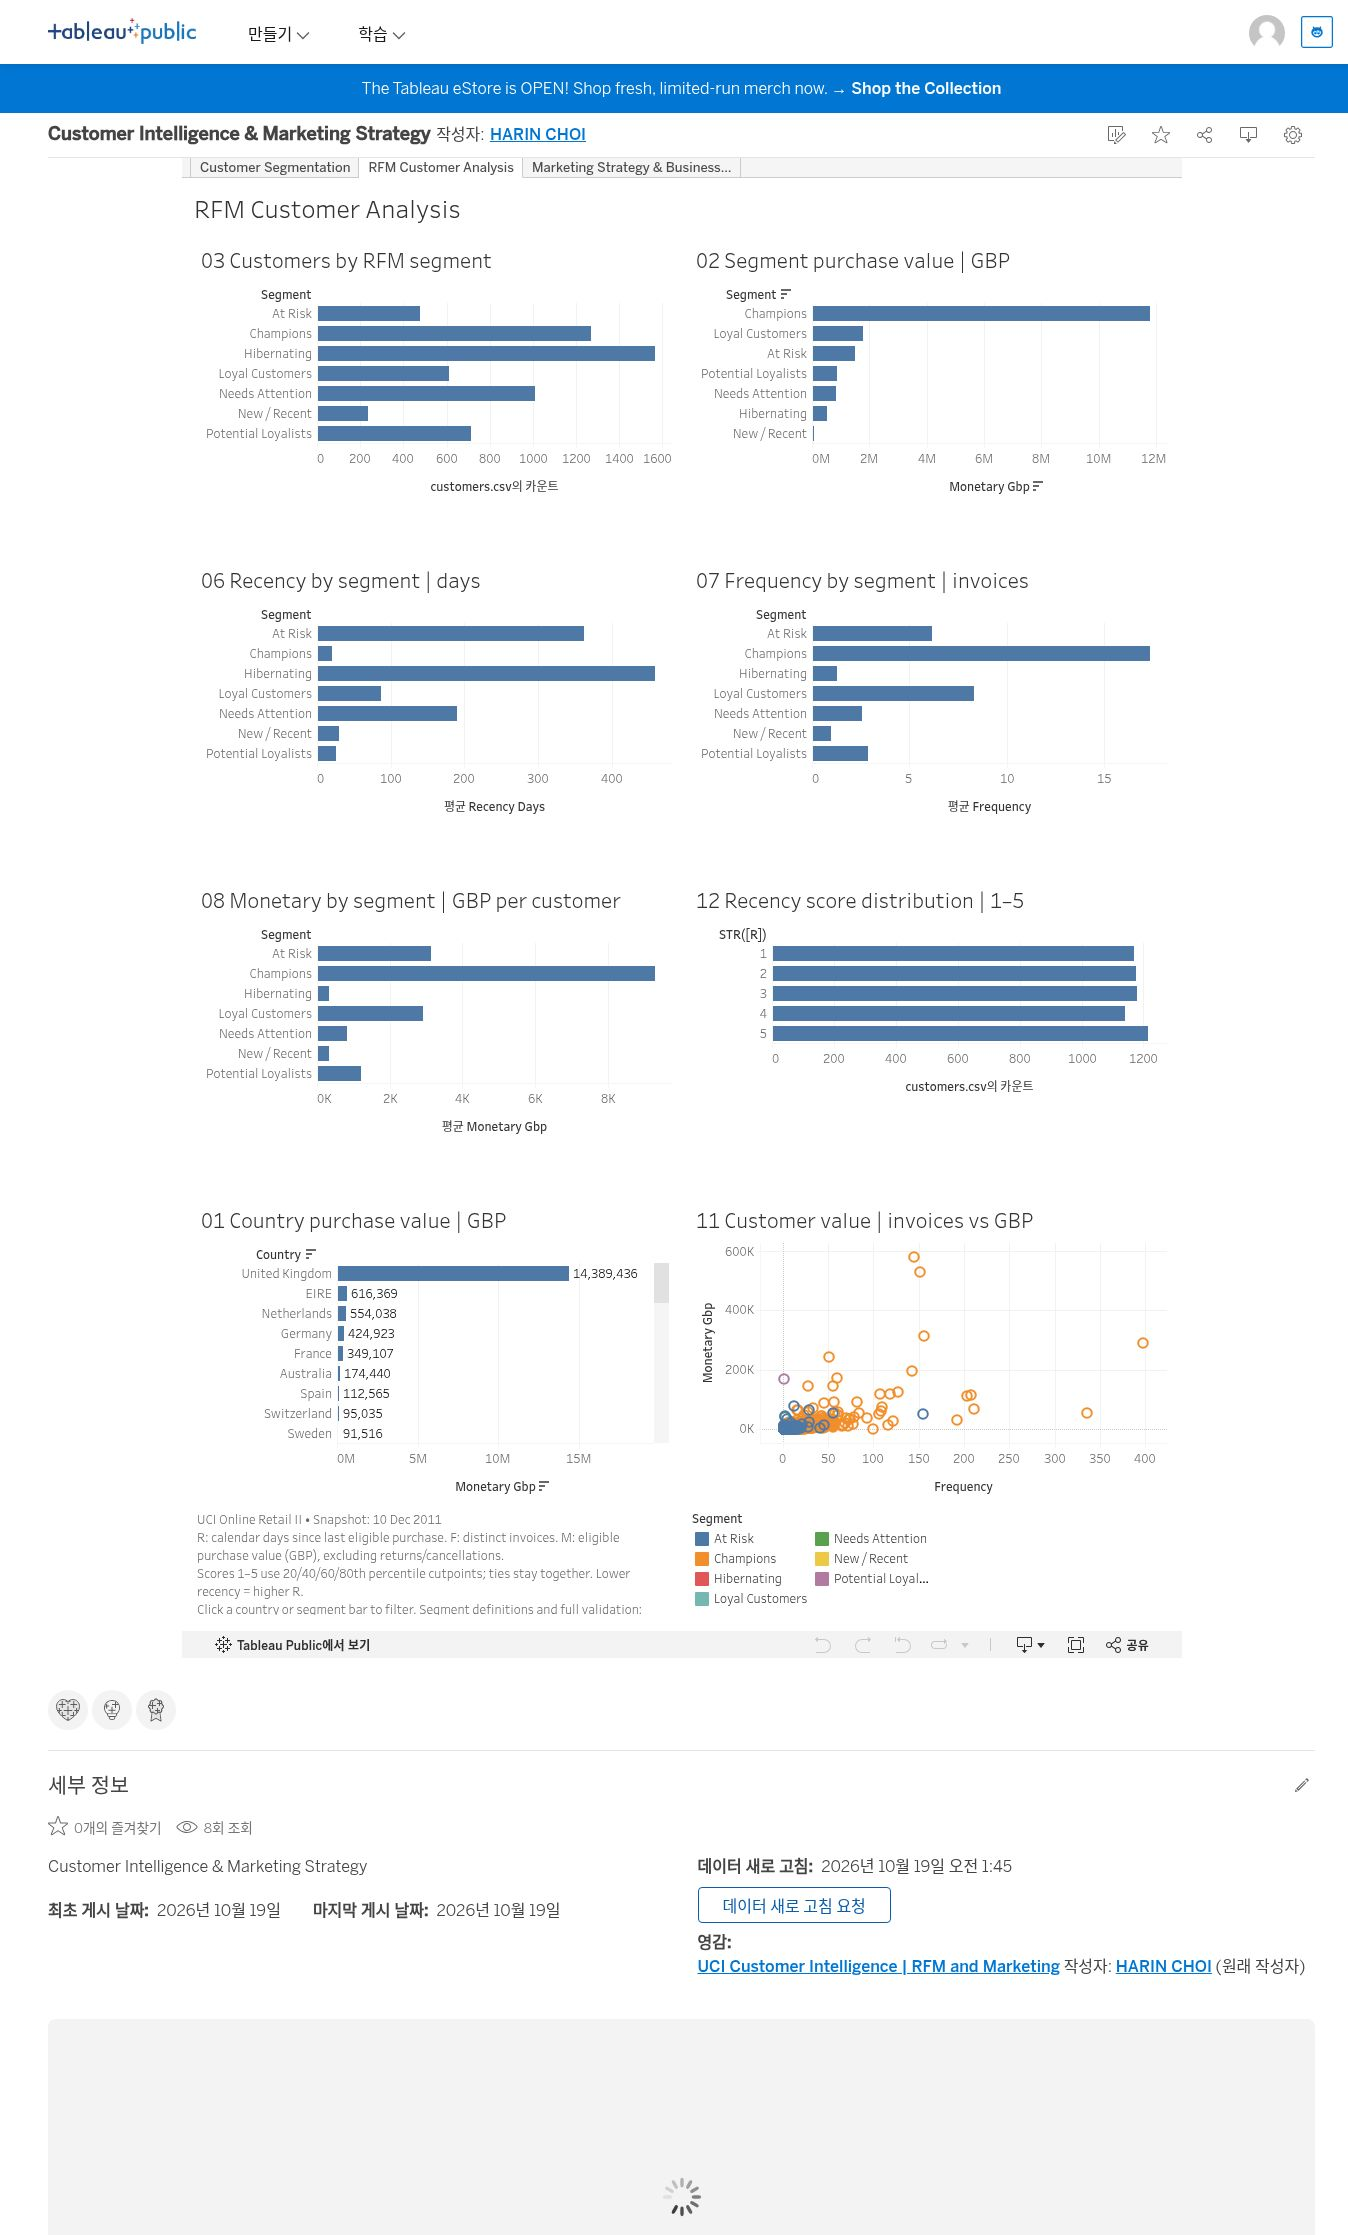

This screenshot's page, from the dashboard's own definition file:
{"tool":"tableau","page":{"name":"RFM Customer Analysis","canvas":[1000,1450],"ordinal":2},"visuals":[{"type":"title","box":[8,8,984,42]},{"type":"worksheet","title":"03 Customers by RFM segment","mark":"Automatic","rows":["segment"],"cols":["customers.csv_656A2521083E484D997BE7D8323A5DB3"],"box":[15,60,475,300]},{"type":"worksheet","title":"02 Segment purchase value | GBP","mark":"Automatic","rows":["segment"],"cols":["monetary_gbp"],"box":[510,60,475,300]},{"type":"worksheet","title":"06 Recency by segment | days","mark":"Automatic","rows":["segment"],"cols":["recency_days"],"box":[15,380,475,300]},{"type":"worksheet","title":"07 Frequency by segment | invoices","mark":"Automatic","rows":["segment"],"cols":["frequency"],"box":[510,380,475,300]},{"type":"worksheet","title":"08 Monetary by segment | GBP per customer","mark":"Automatic","rows":["segment"],"cols":["monetary_gbp"],"box":[15,700,475,300]},{"type":"worksheet","title":"12 Recency score distribution | 1–5","mark":"Automatic","rows":["Calculation_0014282082373664"],"cols":["customers.csv_656A2521083E484D997BE7D8323A5DB3"],"box":[510,700,475,300]},{"type":"worksheet","title":"01 Country purchase value | GBP","mark":"Automatic","rows":["country"],"cols":["monetary_gbp"],"box":[15,1020,475,300]},{"type":"worksheet","title":"11 Customer value | invoices vs GBP","mark":"Automatic","rows":["monetary_gbp"],"cols":["frequency"],"box":[510,1020,475,300]},{"type":"text","box":[15,1330,475,105]},{"type":"legend","title":"11 Customer value | invoices vs GBP","param":"[federated.18ihn7x1v03cf01cf8ey91nxuliz].[none:segment:nk]","box":[510,1330,475,105]}]}

Visuals, with their boxes on the page's 1000x1450 design canvas (x1, y1, x2, y2). These are canvas units, not pixel positions in the 1348x2235 screenshot, which may show the page scaled, cropped or inside an application window:
title: rect(8, 8, 992, 50)
"03 Customers by RFM segment" worksheet: rect(15, 60, 490, 360)
"02 Segment purchase value | GBP" worksheet: rect(510, 60, 985, 360)
"06 Recency by segment | days" worksheet: rect(15, 380, 490, 680)
"07 Frequency by segment | invoices" worksheet: rect(510, 380, 985, 680)
"08 Monetary by segment | GBP per customer" worksheet: rect(15, 700, 490, 1000)
"12 Recency score distribution | 1–5" worksheet: rect(510, 700, 985, 1000)
"01 Country purchase value | GBP" worksheet: rect(15, 1020, 490, 1320)
"11 Customer value | invoices vs GBP" worksheet: rect(510, 1020, 985, 1320)
text: rect(15, 1330, 490, 1435)
"11 Customer value | invoices vs GBP" legend: rect(510, 1330, 985, 1435)
